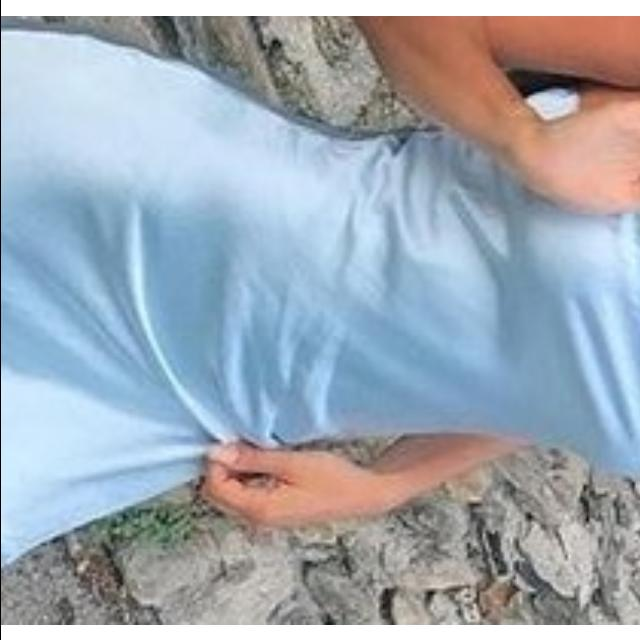silk: (0, 15, 640, 572)
